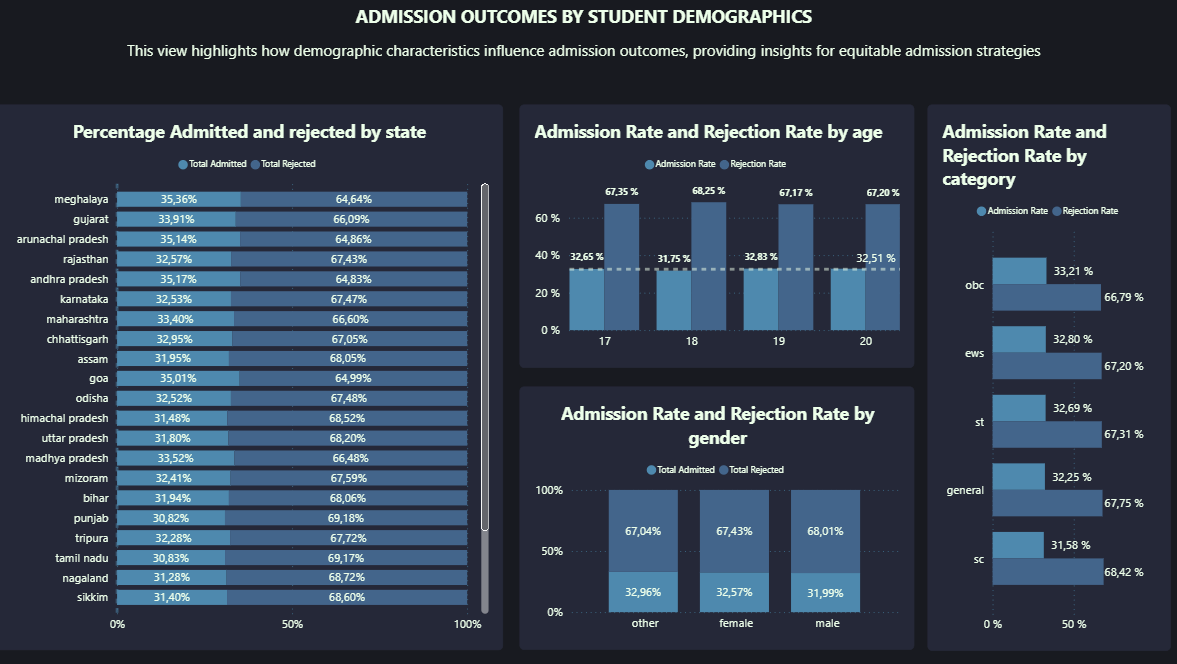

Layout of this report page (visuals, bound fields, positions):
{"tool":"powerbi","page":{"name":"Admission by Demographic ","canvas":[1280,720],"ordinal":3},"visuals":[{"type":"clusteredBarChart","fields":{"Category":["College_Admission_Clean.category"],"Y":["College_Admission_Clean.Admission Rate","College_Admission_Clean.Rejection Rate"]},"box":[1007.1,118.7,258.3,579.5],"z":7125},{"type":"clusteredColumnChart","fields":{"Category":["College_Admission_Clean.age"],"Y":["College_Admission_Clean.Admission Rate","College_Admission_Clean.Rejection Rate"]},"box":[574.3,118.7,418.9,279.3],"z":7250},{"type":"hundredPercentStackedColumnChart","title":"Admission Rate and Rejection Rate by gender","fields":{"Y":["College_Admission_Clean.Total Admitted","College_Admission_Clean.Total Rejected"],"Category":["College_Admission_Clean.gender"]},"box":[574.3,418.9,418.9,279.3],"z":7375},{"type":"hundredPercentStackedBarChart","title":"Percentage  Admitted and rejected by state","fields":{"Category":["College_Admission_Clean.state"],"Y":["College_Admission_Clean.Total Admitted","College_Admission_Clean.Total Rejected"]},"box":[17.5,119.3,539.2,579],"z":7500},{"type":"textbox","box":[17.5,50.6,1249.8,40.1],"z":9000},{"type":"textbox","box":[17.5,12.2,1249.8,38.4],"z":9500}]}

Visuals, with their boxes in screenshot pixels (x1, y1, x2, y2), scaled from the page's 1280x720 canvas onto the 1177x664 screenshot:
clusteredBarChart - College_Admission_Clean.category x College_Admission_Clean.Admission Rate: (left=926, top=109, right=1164, bottom=644)
clusteredColumnChart - College_Admission_Clean.age x College_Admission_Clean.Admission Rate: (left=528, top=109, right=913, bottom=367)
"Admission Rate and Rejection Rate by gender" hundredPercentStackedColumnChart: (left=528, top=386, right=913, bottom=644)
"Percentage  Admitted and rejected by state" hundredPercentStackedBarChart: (left=16, top=110, right=512, bottom=644)
textbox: (left=16, top=47, right=1165, bottom=84)
textbox: (left=16, top=11, right=1165, bottom=47)
